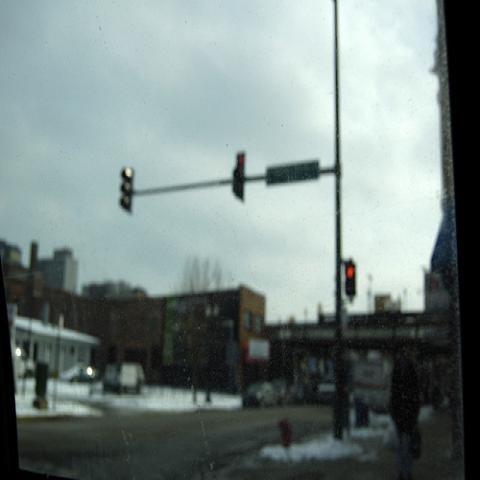car: (102, 363, 145, 396), (248, 381, 279, 407), (59, 361, 94, 383), (269, 379, 288, 408), (317, 377, 338, 403), (287, 383, 307, 404)
